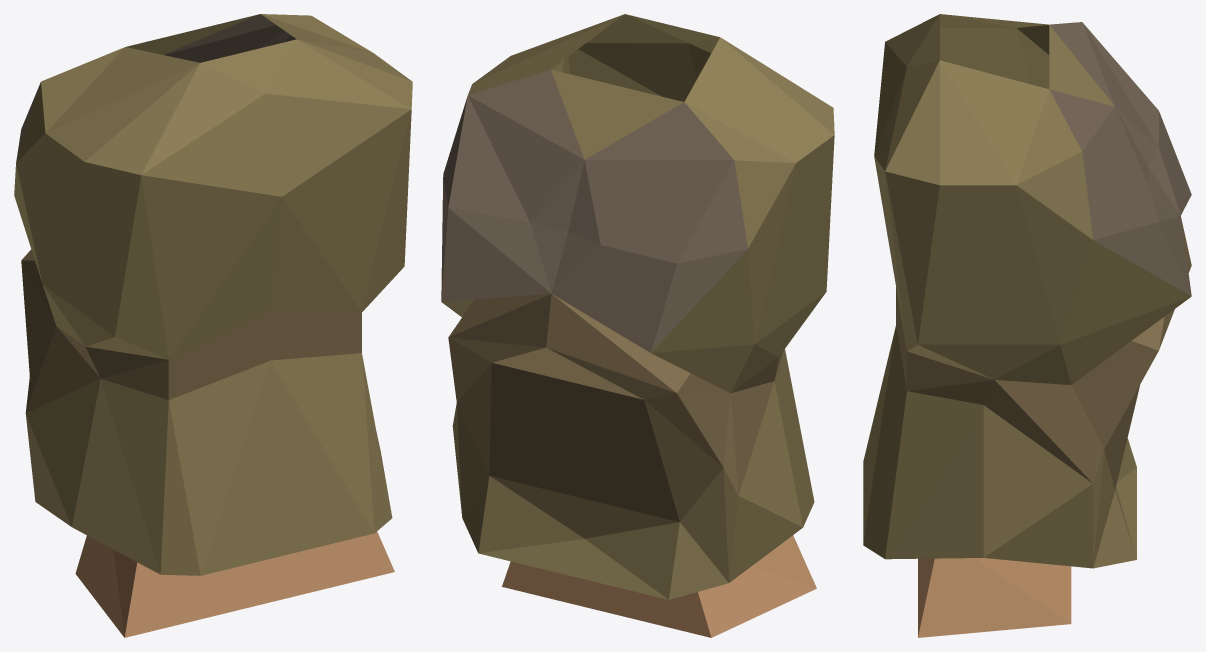
File: npc_world_mary_1.obj
The picture shows the model from 3 angles, left to right: view 1: azimuth 30°, elevation 25°; view 2: azimuth 150°, elevation 25°; view 3: azimuth 270°, elevation 25°; orthographic projection.
Size of the model in its own units: 0.2656 by 0.4219 by 0.2344.
